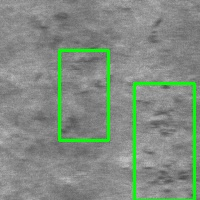rolled-in_scale: (134, 83, 194, 200), (59, 50, 108, 140)
